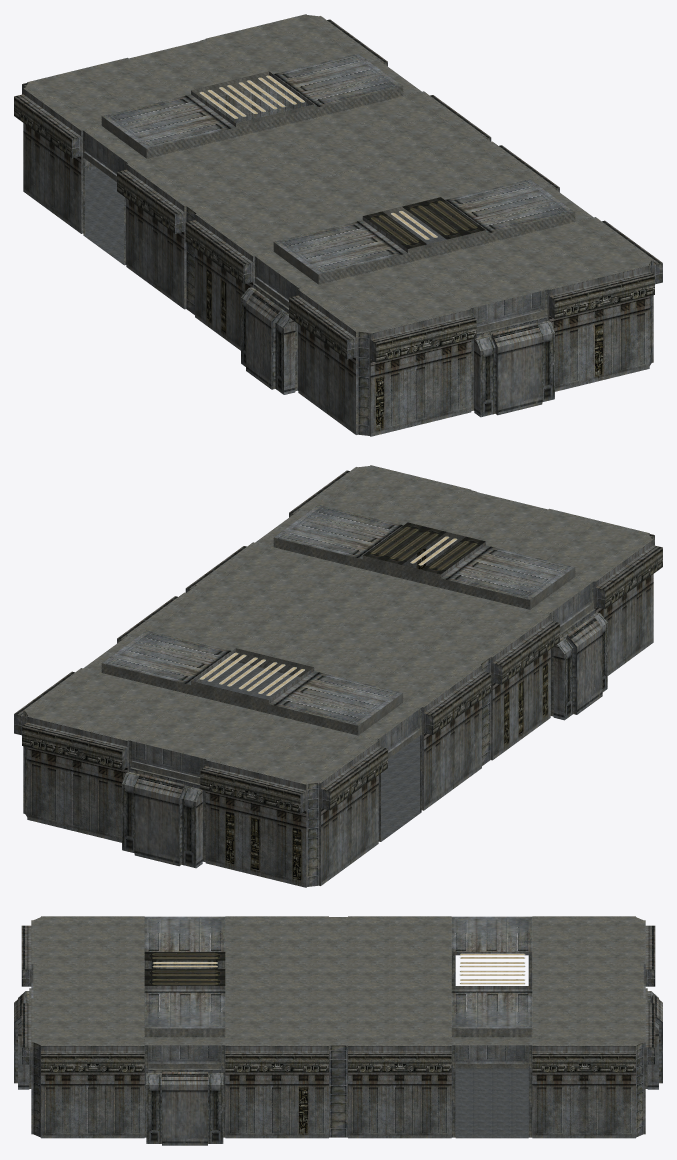
File: poi_all_impl_bunker_abandoned_s01_r12_planning_mesh.fbx
3 views of the same model, one above another, from view 1: azimuth 30°, elevation 25°; view 2: azimuth 150°, elevation 25°; view 3: azimuth 270°, elevation 25° (orthographic). The views are drawn at different scales.
Parts seen in each view (by area): view 1: mesh_node; view 2: mesh_node; view 3: mesh_node.
Part boxes in pixels (box(x1,y1,x2,y2)): mesh_node: box(14, 14, 662, 436); mesh_node: box(14, 465, 662, 887); mesh_node: box(14, 916, 662, 1145).
Bounding box in the file's own units: 17.8 × 6 × 33.8.
